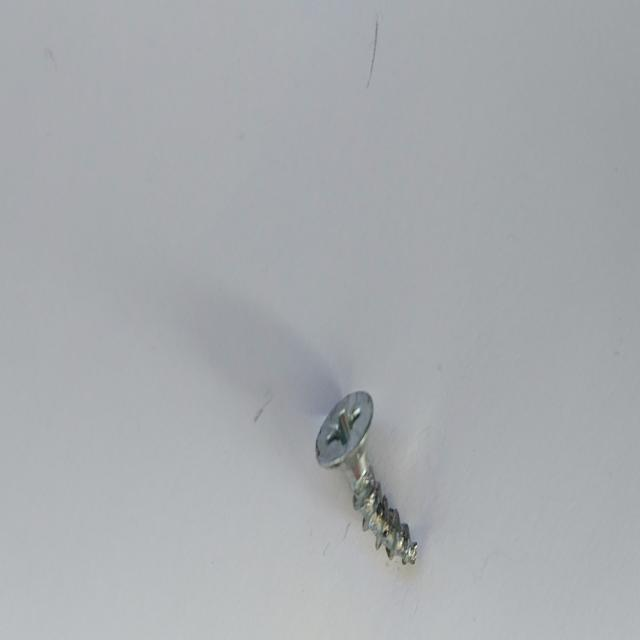Screw: (316, 391, 418, 564)
